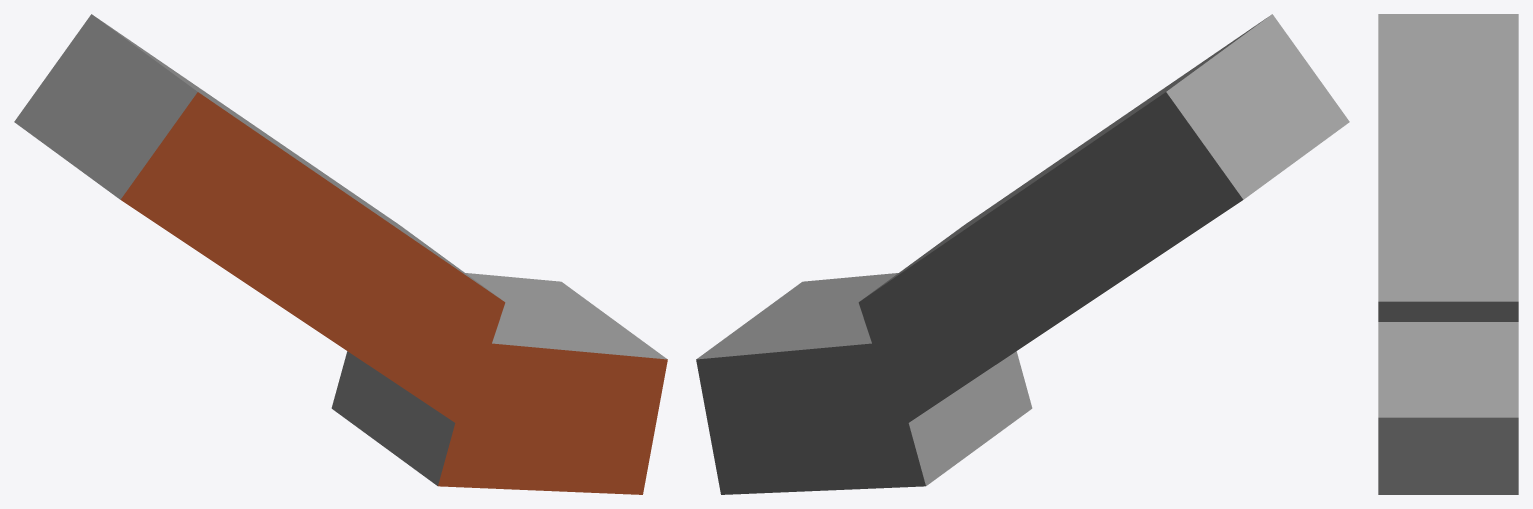
Rendered from construction_2077_assumed_A_Casa_h6m.obj.
3 views of the same model, side by side, from view 1: azimuth 30°, elevation 25°; view 2: azimuth 150°, elevation 25°; view 3: azimuth 270°, elevation 25° (orthographic). The views are drawn at different scales.
Visible parts, largest first — view 1: construction_2077_assumed_A_Casa; view 2: construction_2077_assumed_A_Casa; view 3: construction_2077_assumed_A_Casa.
Boxes of the visible parts, x1,y1,x2,y2 form: construction_2077_assumed_A_Casa: [14, 14, 667, 494]; construction_2077_assumed_A_Casa: [696, 14, 1349, 494]; construction_2077_assumed_A_Casa: [1378, 14, 1518, 494].
Bounding box in the file's own units: 17.83 × 15.92 × 6.
